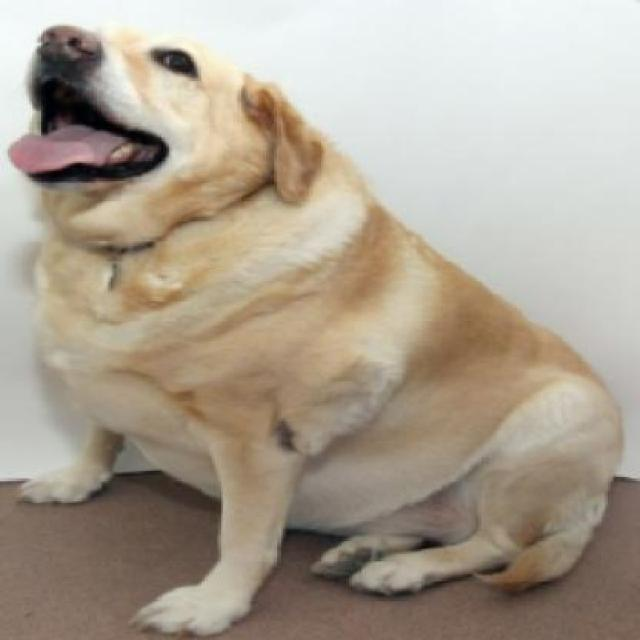Dog: (5, 21, 623, 638)
